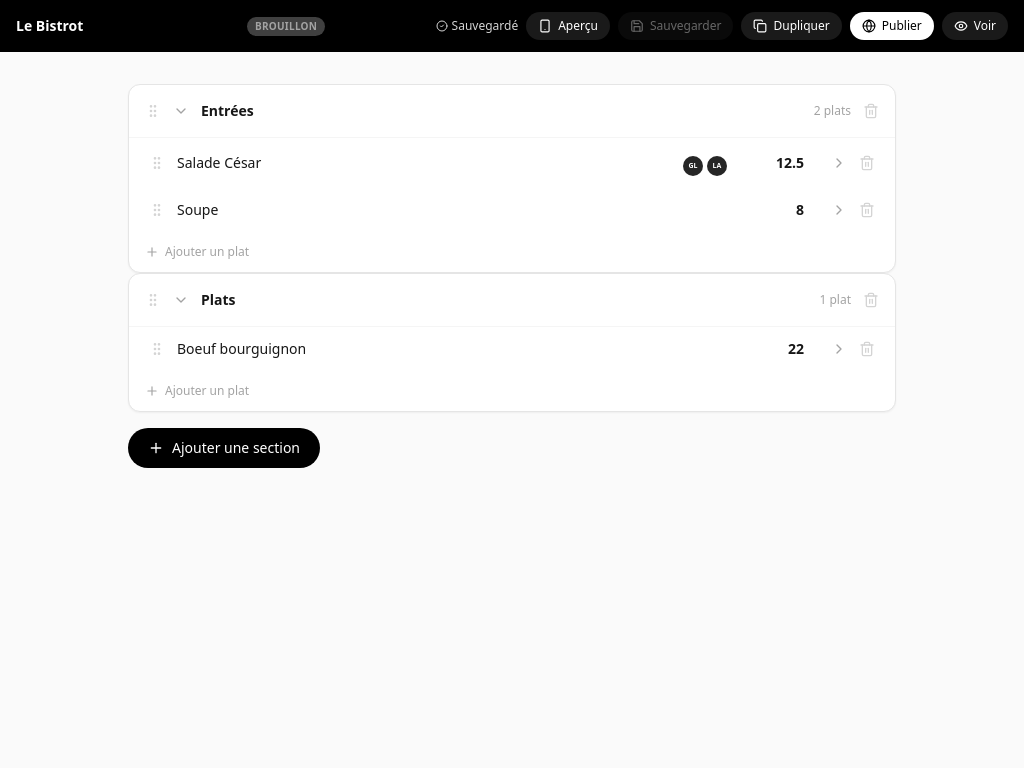
Test: MenuEditorPage › can add a new section
This screenshot has width=1024, height=768.
Expected: the 2nd field showing "Entrées" is shown, x1=201 y1=101 x2=802 y2=121
Click the button "Ajouter une section" at x=224, y=448, box x1=128 y1=428 x2=320 y2=468
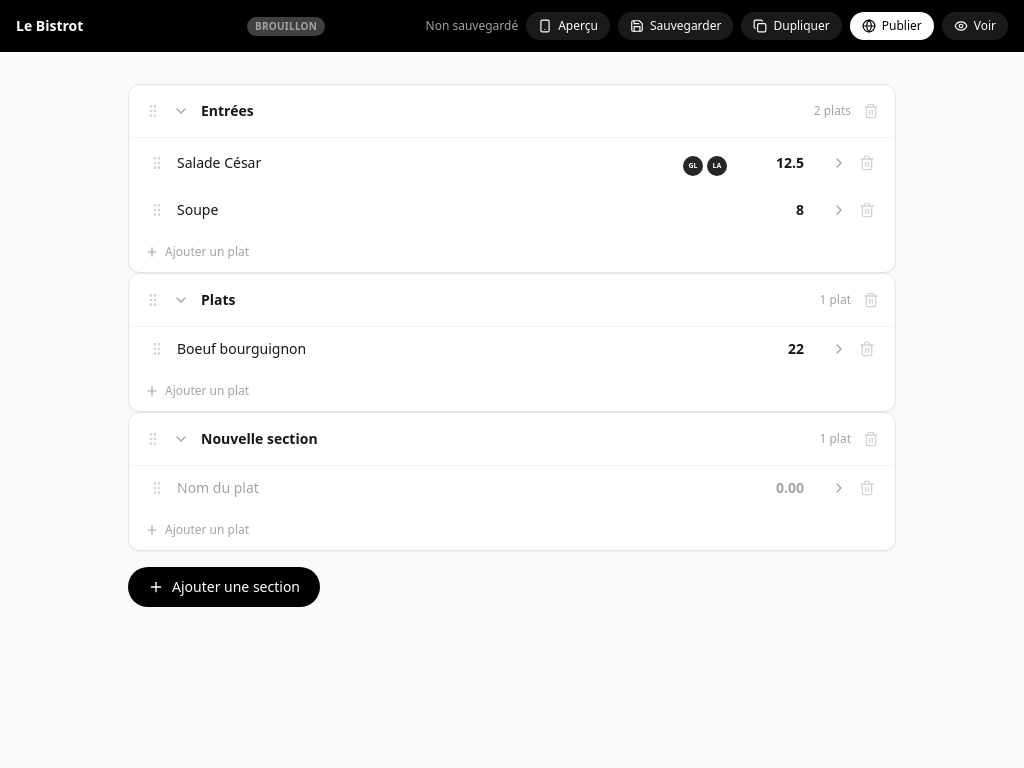
Expected: the 7th field showing "Nouvelle section" is shown, x1=201 y1=429 x2=808 y2=449
